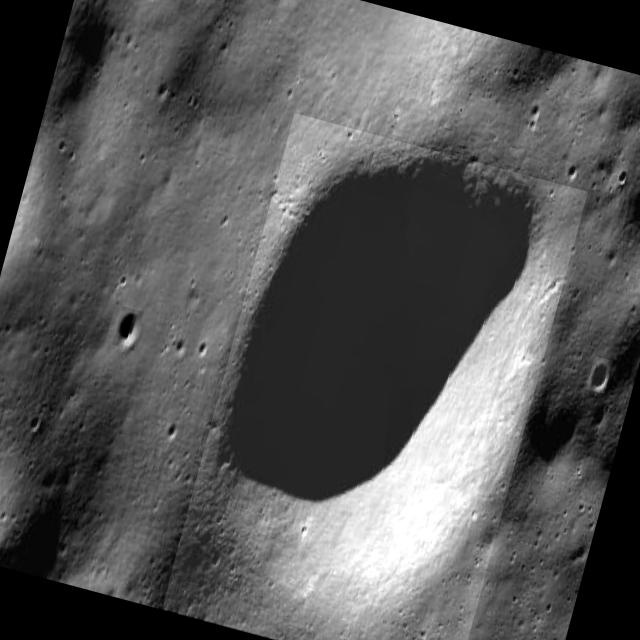crater: (162, 112, 589, 640), (113, 306, 144, 350), (586, 356, 614, 394)
